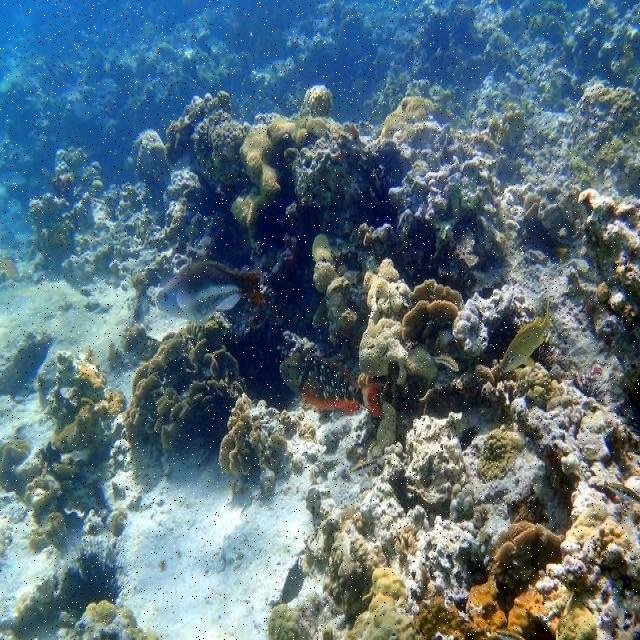fish: (279, 350, 385, 419), (157, 261, 266, 325), (502, 297, 558, 374), (270, 557, 308, 611), (433, 355, 459, 372)
reefs: (1, 0, 639, 639), (0, 536, 160, 639)
